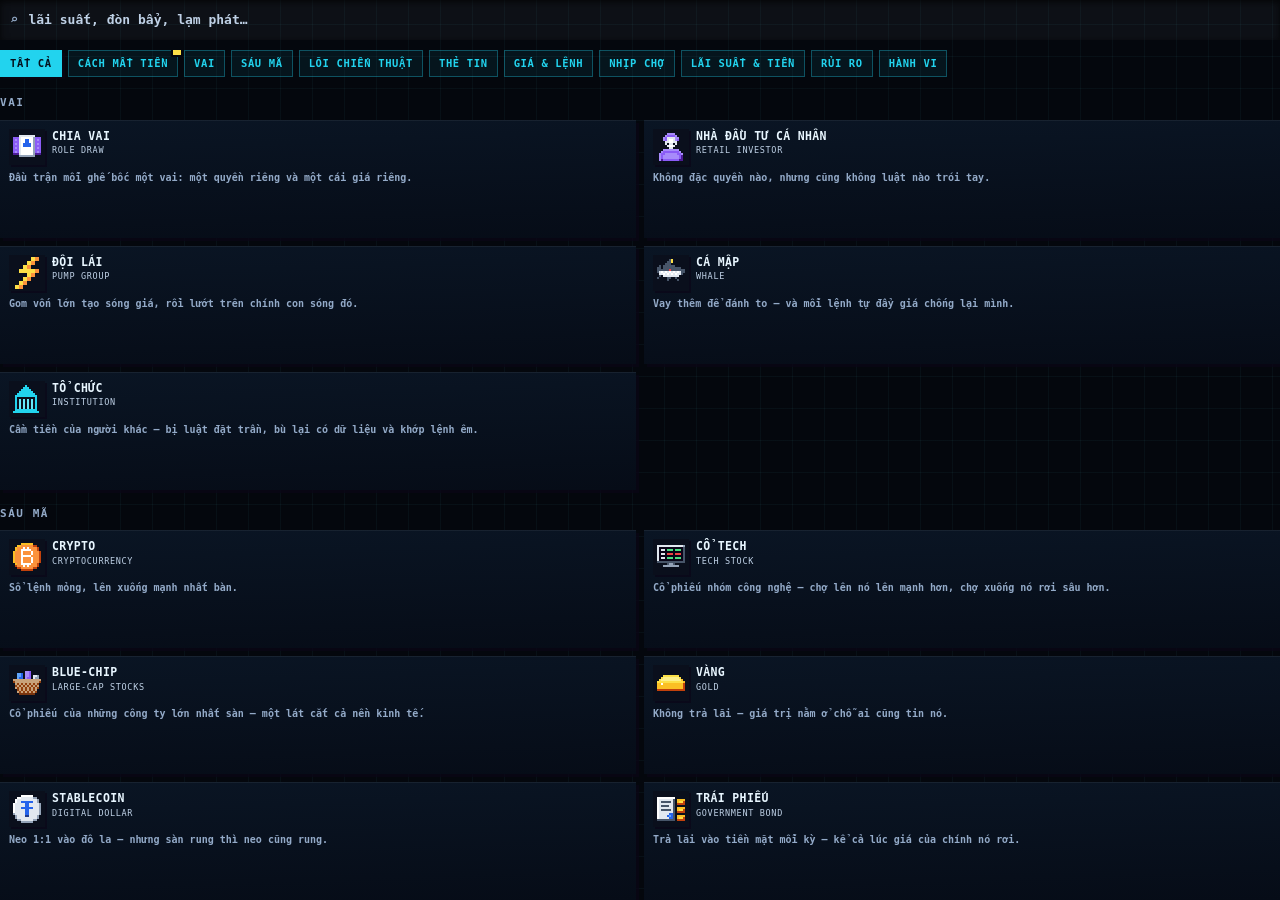
Test: D543 — tra cứu lên đầu, CÁCH MẤT TIỀN là ô lọc › ⭐ chưa xem ⇒ chấm vàng; mở ô ⇒ hiện mười đường + hết chấm, và vẽ lại vẫn hết chấm (nhớ ở máy)
This screenshot has width=1280, height=900.
What coordinates should you click on to do the following:
click the tab with test id "chip-mat-tien"
I would click on:
 (123, 63)
Its box is [68,50,178,77].
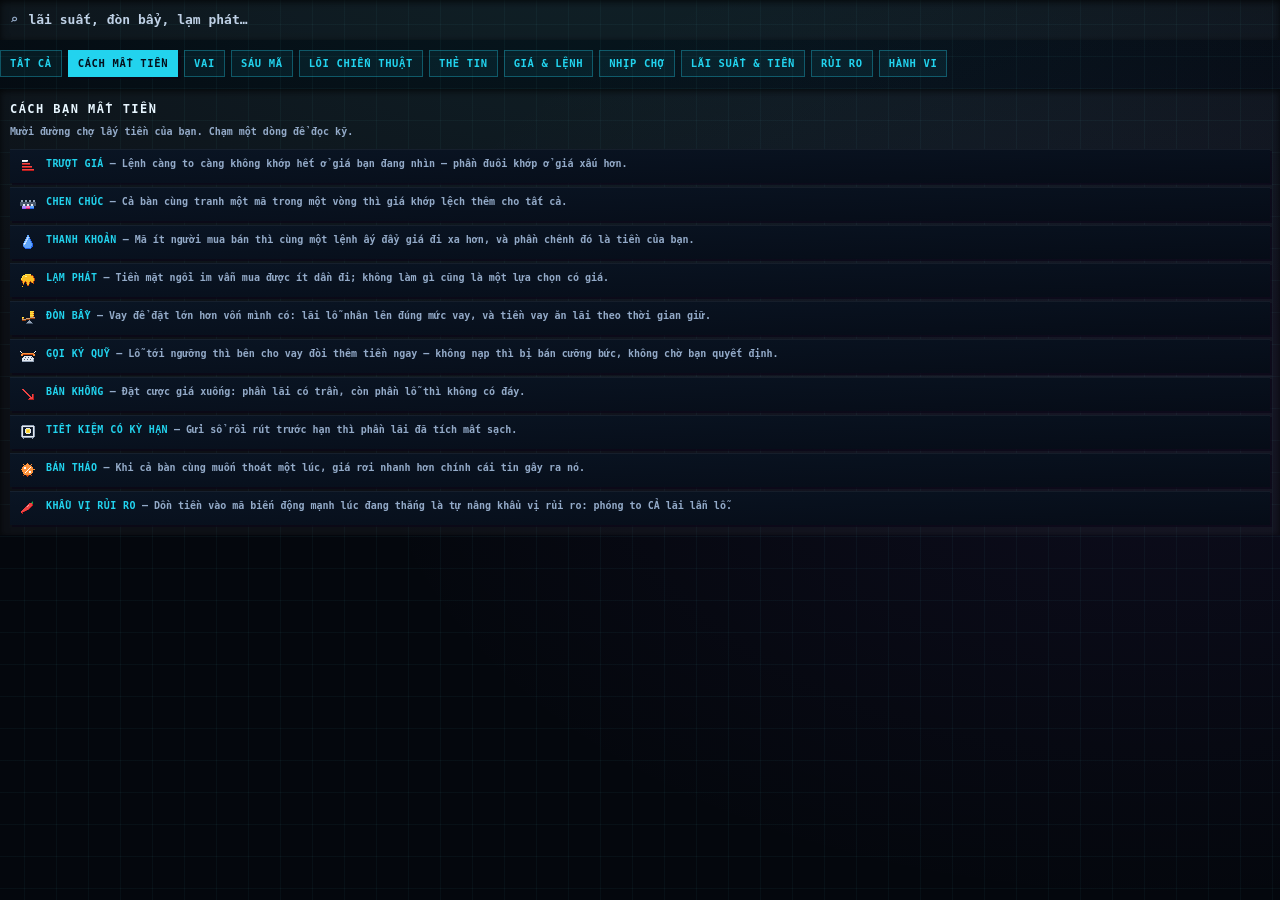
Now the element with test id "cua-mat-tien" is shown, box [0,89,1279,535]
